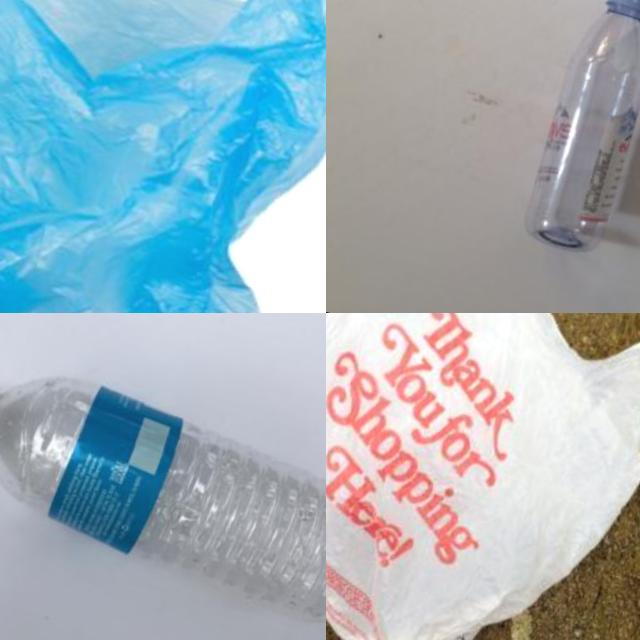garrafa plástica: (0, 357, 326, 632), (518, 0, 640, 263)
sacola plástica: (326, 313, 640, 640), (0, 0, 326, 313)
tampa plástica: (603, 0, 640, 19)
